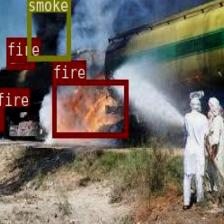fire: (52, 79, 127, 137), (5, 56, 34, 68), (0, 107, 3, 128)
smoke: (26, 0, 69, 59)
